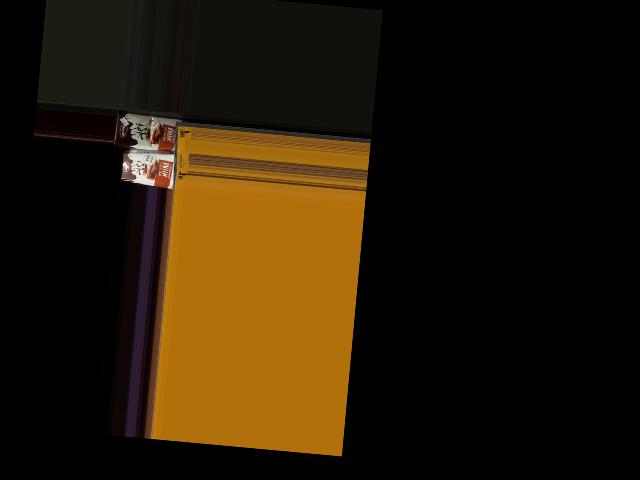chocolate: (118, 149, 182, 192)
